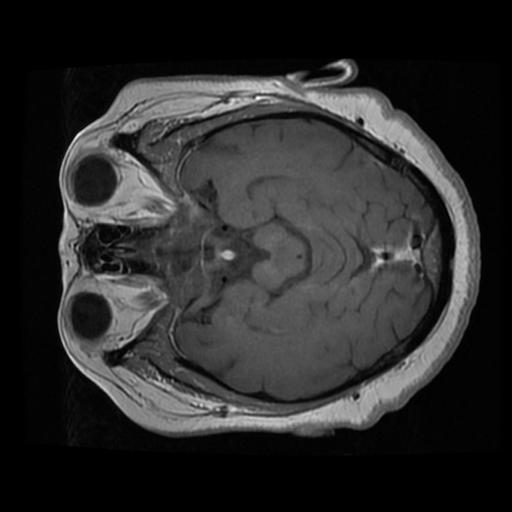pituitary tumour: (206, 236, 244, 275)
